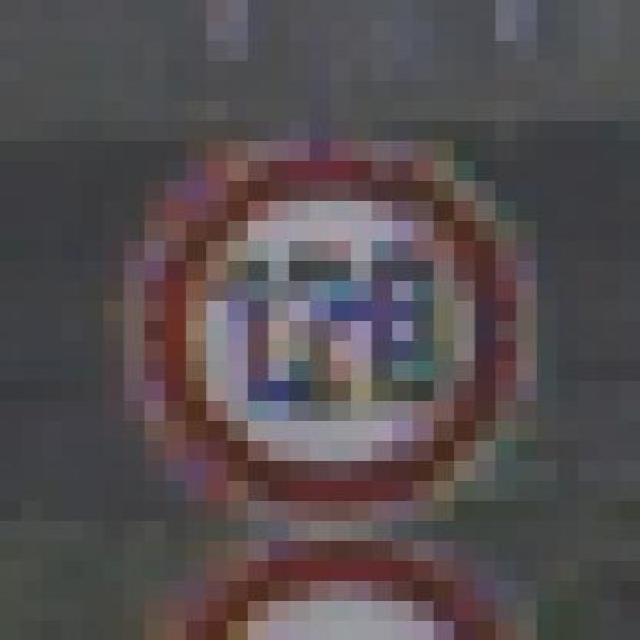forb_speed_over_120: (155, 154, 518, 509)
